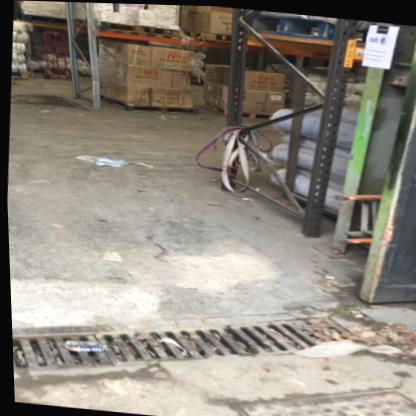vertical_damage: (87, 72, 105, 91)
